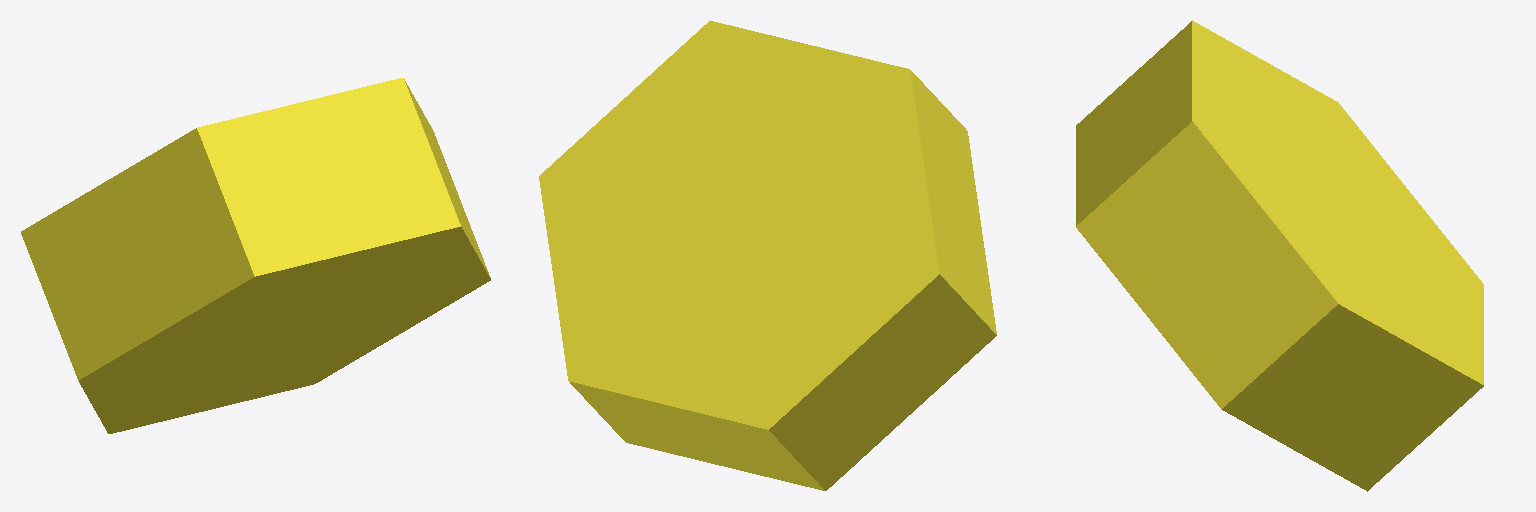
The robot description file, URDF, robot "panda":
<?xml version="1.0" ?>
<robot name="panda" xmlns:xacro="http://www.ros.org/wiki/xacro">
  <link name="panda_link0">
    <visual>
      <geometry>
        <mesh filename="package://franka_description/meshes/visual/link0.dae"/>
      </geometry>
    </visual>
    <collision>
      <geometry>
        <mesh filename="package://franka_description/meshes/collision/link0.obj"/>
      </geometry>
    </collision>
  </link>
  <link name="panda_link1">
    <!-- <visual>
      <geometry>
        <mesh filename="package://franka_description/meshes/visual/link1.dae"/>
      </geometry>
    </visual> -->
    <collision>
      <geometry>
        <mesh filename="package://franka_description/meshes/collision/link1.obj"/>
      </geometry>
    </collision>
  </link>
  <joint name="panda_joint1" type="revolute">
    <safety_controller k_position="100.0" k_velocity="40.0" soft_lower_limit="-2.8973" soft_upper_limit="2.8973"/>
    <origin rpy="0 0 0" xyz="0 0 0.333"/>
    <!-- <origin rpy="0 0 0" xyz="0 0.333 0"/> -->
    <parent link="panda_link0"/>
    <child link="panda_link1"/>
    <axis xyz="0 0 1"/>
    <dynamics damping="10.0"/>
    <limit effort="87" lower="-2.8973" upper="2.8973" velocity="2.1750"/>
  </joint>
  <link name="panda_link2">
    <!-- <visual>
      <geometry>
        <mesh filename="package://franka_description/meshes/visual/link2.dae"/>
      </geometry>
    </visual> -->
    <collision>
      <geometry>
        <mesh filename="package://franka_description/meshes/collision/link2.obj"/>
      </geometry>
    </collision>
  </link>
  <joint name="panda_joint2" type="revolute">
    <safety_controller k_position="100.0" k_velocity="40.0" soft_lower_limit="-1.7628" soft_upper_limit="1.7628"/>
    <origin rpy="-1.57079632679 0 0" xyz="0 0 0"/>
    <parent link="panda_link1"/>
    <child link="panda_link2"/>
    <axis xyz="0 0 1"/>
    <dynamics damping="10.0"/>
    <limit effort="87" lower="-1.7628" upper="1.7628" velocity="2.1750"/>
  </joint>
  <link name="panda_link3">
    <!-- <visual>
      <geometry>
        <mesh filename="package://franka_description/meshes/visual/link3.dae"/>
      </geometry>
    </visual> -->
    <collision>
      <geometry>
        <mesh filename="package://franka_description/meshes/collision/link3.obj"/>
      </geometry>
    </collision>
  </link>
  <joint name="panda_joint3" type="revolute">
    <safety_controller k_position="100.0" k_velocity="40.0" soft_lower_limit="-2.8973" soft_upper_limit="2.8973"/>
    <origin rpy="1.57079632679 0 0" xyz="0 -0.316 0"/>
    <parent link="panda_link2"/>
    <child link="panda_link3"/>
    <axis xyz="0 0 1"/>
    <dynamics damping="10.0"/>
    <limit effort="87" lower="-2.8973" upper="2.8973" velocity="2.1750"/>
  </joint>
  <link name="panda_link4">
    <!-- <visual>
      <geometry>
        <mesh filename="package://franka_description/meshes/visual/link4.dae"/>
      </geometry>
    </visual> -->
    <collision>
      <geometry>
        <mesh filename="package://franka_description/meshes/collision/link4.obj"/>
      </geometry>
    </collision>
  </link>
  <joint name="panda_joint4" type="revolute">
    <safety_controller k_position="100.0" k_velocity="40.0" soft_lower_limit="-3.0718" soft_upper_limit="-0.0698"/>
    <origin rpy="1.57079632679 0 0" xyz="0.0825 0 0"/>
    <parent link="panda_link3"/>
    <child link="panda_link4"/>
    <axis xyz="0 0 1"/>    
    <dynamics damping="10.0"/>
    <limit effort="87" lower="-3.0718" upper="-0.0698" velocity="2.1750"/>
    <!-- something is weird with this joint limit config
    <dynamics damping="10.0"/>
    <limit effort="87" lower="-3.0" upper="0.087" velocity="2.1750"/>  -->
  </joint>
  <link name="panda_link5">
    <!-- <visual>
      <geometry>
        <mesh filename="package://franka_description/meshes/visual/link5.dae"/>
      </geometry>
    </visual> -->
    <collision>
      <geometry>
        <mesh filename="package://franka_description/meshes/collision/link5.obj"/>
      </geometry>
    </collision>
  </link>
  <joint name="panda_joint5" type="revolute">
    <safety_controller k_position="100.0" k_velocity="40.0" soft_lower_limit="-2.8973" soft_upper_limit="2.8973"/>
    <origin rpy="-1.57079632679 0 0" xyz="-0.0825 0.384 0"/>
    <parent link="panda_link4"/>
    <child link="panda_link5"/>
    <axis xyz="0 0 1"/>
    <dynamics damping="10.0"/>
    <limit effort="12" lower="-2.8973" upper="2.8973" velocity="2.6100"/>
  </joint>
  <link name="panda_link6">
    <!-- <visual>
      <geometry>
        <mesh filename="package://franka_description/meshes/visual/link6.dae"/>
      </geometry>
    </visual> -->
    <collision>
      <geometry>
        <mesh filename="package://franka_description/meshes/collision/link6.obj"/>
      </geometry>
    </collision>
  </link>
  <joint name="panda_joint6" type="revolute">
    <safety_controller k_position="100.0" k_velocity="40.0" soft_lower_limit="-0.0175" soft_upper_limit="3.7525"/>
    <origin rpy="1.57079632679 0 0" xyz="0 0 0"/>
    <parent link="panda_link5"/>
    <child link="panda_link6"/>
    <axis xyz="0 0 1"/>
    <dynamics damping="10.0"/>
    <limit effort="12" lower="-0.0175" upper="3.7525" velocity="2.6100"/>
    <!-- <dynamics damping="10.0"/>
    <limit effort="12" lower="-0.0873" upper="3.0" velocity="2.6100"/> -->
  </joint>
  <link name="panda_link7">
    <!-- <visual>
      <geometry>
        <mesh filename="package://franka_description/meshes/visual/link7.dae"/>
      </geometry>
    </visual> -->
    <collision>
      <geometry>
        <mesh filename="package://franka_description/meshes/collision/link7.obj"/>
      </geometry>
    </collision>
  </link>
  <joint name="panda_joint7" type="revolute">
    <safety_controller k_position="100.0" k_velocity="40.0" soft_lower_limit="-2.8973" soft_upper_limit="2.8973"/>
    <origin rpy="1.57079632679 0 0" xyz="0.088 0 0"/>
    <parent link="panda_link6"/>
    <child link="panda_link7"/>
    <axis xyz="0 0 1"/>
    <dynamics damping="10.0"/>
    <limit effort="12" lower="-2.8973" upper="2.8973" velocity="2.6100"/>
  </joint>
  <!--
  <link name="panda_link8"/>
  <joint name="panda_joint8" type="fixed">
    <origin rpy="0 0 0" xyz="0 0 0.107"/>
    <parent link="panda_link7"/>
    <child link="panda_link8"/>
    <axis xyz="0 0 0"/>
  </joint>
  Removing this joint seems to help with some stability things
  -->
  <joint name="panda_hand_joint" type="fixed">
    <!--
    <parent link="panda_link8"/>
    -->
    <parent link="panda_link7"/>
    <child link="panda_hand"/>
    <origin rpy="0 0 -0.785398163397" xyz="0 0 0.107"/>
    <!--
    <origin rpy="0 0 -0.785398163397" xyz="0 0 0"/>
    -->
  </joint>
  <link name="panda_hand">
    <!-- <visual>
      <geometry>
        <mesh filename="package://franka_description/meshes/visual/hand.dae"/>
      </geometry>
    </visual> -->
    <collision>
      <geometry>
        <mesh filename="package://franka_description/meshes/collision/hand.obj"/>
      </geometry>
    </collision>
  </link>
  <link name="panda_leftfinger">
    <!-- <visual>
      <geometry>
        <mesh filename="package://franka_description/meshes/visual/finger.dae"/>
      </geometry>
    </visual> -->
    <collision>
      <geometry>
        <mesh filename="package://franka_description/meshes/collision/finger.obj"/>
      </geometry>
    </collision>
  </link>
  <link name="panda_rightfinger">
    <!-- <visual>
      <origin rpy="0 0 3.14159265359" xyz="0 0 0"/>
      <geometry>
        <mesh filename="package://franka_description/meshes/visual/finger.dae"/>
      </geometry>
    </visual> -->
    <collision>
      <origin rpy="0 0 3.14159265359" xyz="0 0 0"/>
      <geometry>
        <mesh filename="package://franka_description/meshes/collision/finger.obj"/>
      </geometry>
    </collision>
  </link>
  <joint name="panda_finger_joint1" type="prismatic">
    <parent link="panda_hand"/>
    <child link="panda_leftfinger"/>
    <origin rpy="0 0 0" xyz="0 0.015 0.0584"/>
    <axis xyz="0 1 0"/>
    <dynamics damping="10.0"/>
    <limit effort="20" lower="0.0" upper="0.04" velocity="0.2"/>
  </joint>
  <joint name="panda_finger_joint2" type="prismatic">
    <parent link="panda_hand"/>
    <child link="panda_rightfinger"/>
    <origin rpy="0 0 0" xyz="0 -0.015 0.0584"/>
    <axis xyz="0 -1 0"/>
    <dynamics damping="10.0"/>
    <limit effort="20" lower="0.0" upper="0.04" velocity="0.2"/>
    <mimic joint="panda_finger_joint1"/>
  </joint>

  <!-- bottle cap -->
  	<link name="cap">
		<visual name="lid-7">
			<origin xyz="-0.007005959241653967 0 -0.007542109902568375"/>
			<geometry>
				<mesh filename="textured_objs/cap6.obj" scale="0.15 0.15 0.15"/>
			</geometry>
		</visual>
		<collision>
			<origin xyz="-0.007005959241653967 0 -0.007542109902568375"/>
			<geometry>
				<mesh filename="../../textured_objs/original-7.obj" scale="0.15 0.15 0.15"/>
			</geometry>
		</collision>
	</link>

  <joint name="end_effector_joint" type="fixed">
    <parent link="panda_hand"/>
    <child link="cap"/>
    <origin rpy="0 0 0" xyz="0 0 -0.03"/>
  </joint>

</robot>

--- Facts derived from the render (not from the file) ---
3 views of the same robot in one strip: view 1: azimuth 30°, elevation 25°; view 2: azimuth 150°, elevation 25°; view 3: azimuth 270°, elevation 25° (orthographic).
Model panda with 12 links and 11 joints (7 revolute, 2 prismatic, 2 fixed), rooted at panda_link0, posed all joints at 0 but 1 set to mid-range because 0 is outside their limits (panda_joint4 = -1.57).
Links seen in each view (by area): view 1: cap; view 2: cap; view 3: cap.
Boxes of the visible links, <box> form: cap: <box>21,78,490,433</box>; cap: <box>539,21,996,490</box>; cap: <box>1076,20,1483,491</box>.
Bounding box of the posed robot: 0.0265 × 0.0227 × 0.0227 m (x, y, z).
Meshes: 2 distinct files referenced, 1 mesh visuals loaded (1 OBJ); not drawn: 1 (reference not matched to a file when rendering).